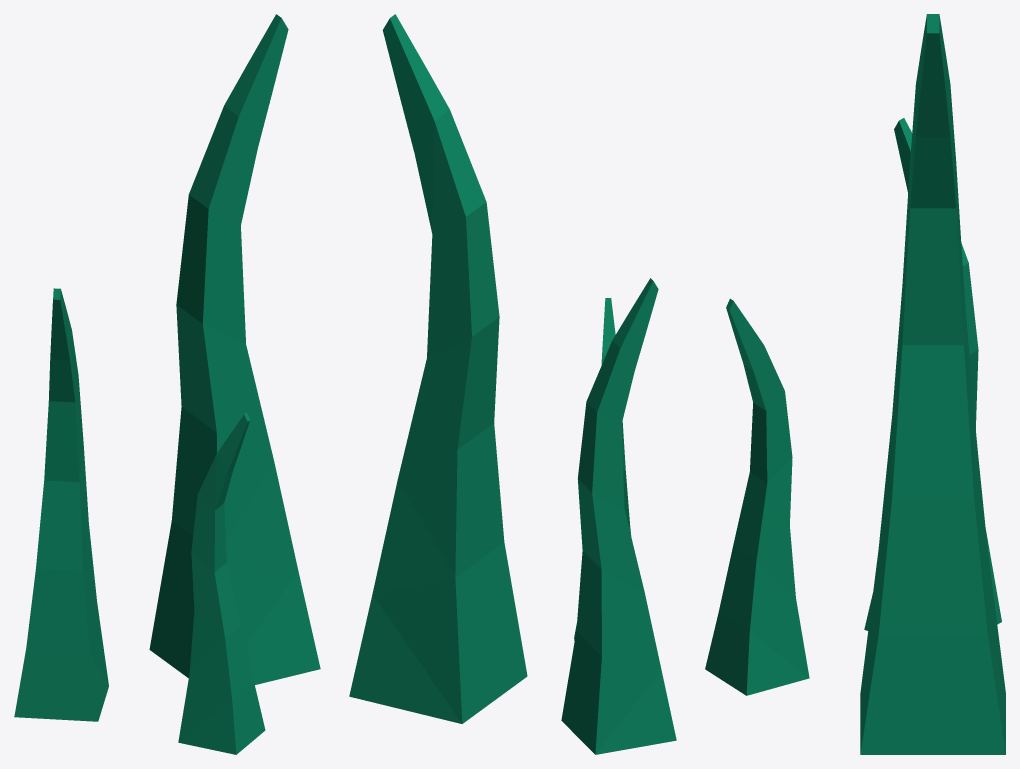
The model's file is world_1_grass_3.dae.
3 renders of one model, left to right at view 1: azimuth 30°, elevation 25°; view 2: azimuth 150°, elevation 25°; view 3: azimuth 270°, elevation 25°, orthographic. The views are drawn at different scales.
Parts seen in each view (by area): view 1: grass_3; view 2: grass_3; view 3: grass_3.
Boxes of the visible parts, x1=… form: grass_3: x1=14, y1=14, x2=320, y2=754; grass_3: x1=349, y1=14, x2=676, y2=754; grass_3: x1=705, y1=14, x2=1005, y2=754.
Size of the model in its own units: 0.2571 by 0.2067 by 0.5571.
